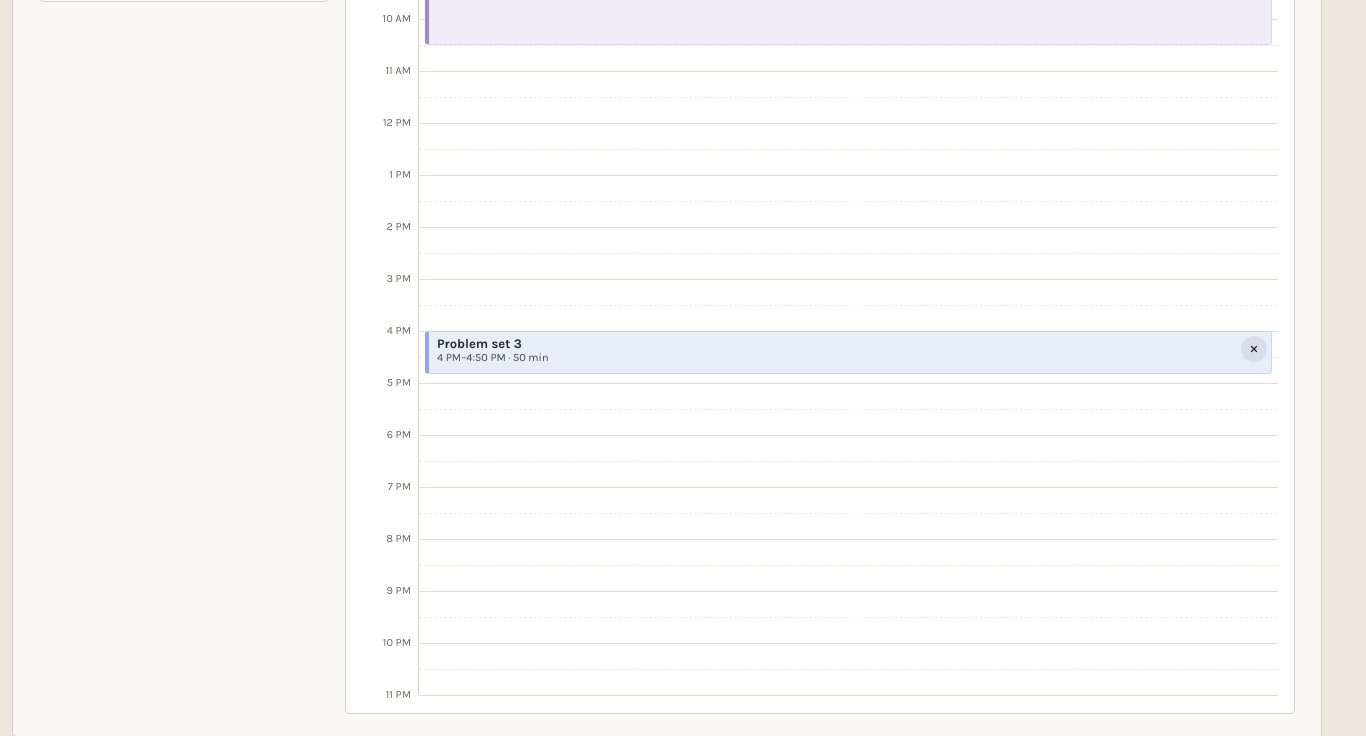
Test: the to-do task pop-up can set, add and clear a tag
The image size is (1366, 736).
Later steps or results of the test are not shown.
(page scrolled)
Press the mouse on the element showing "Problem set 3 4 PM–4:50 PM · 50 min" at (848, 352), box left=425, top=331, right=1272, bottom=374
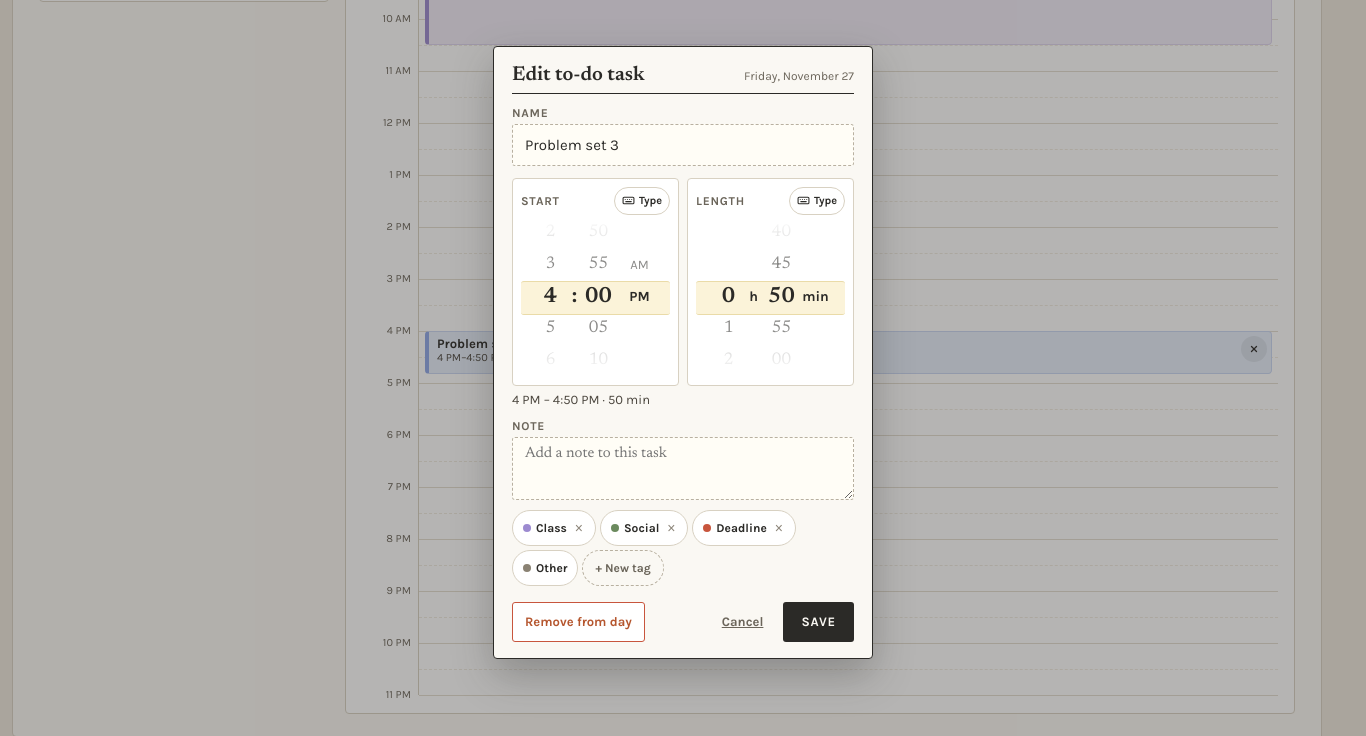
Click the button "Deadline" at (731, 528), box left=693, top=512, right=769, bottom=544
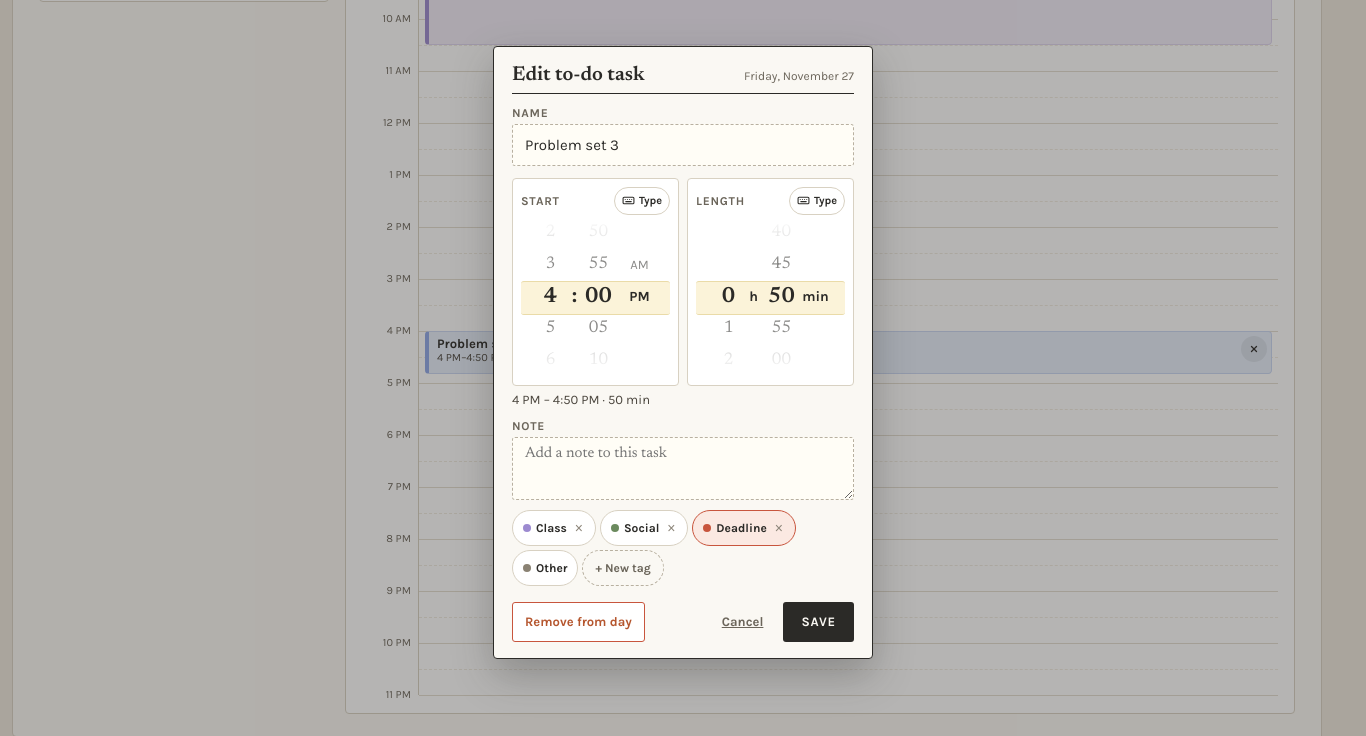
Click the button "SAVE" at (819, 622), box left=783, top=602, right=854, bottom=642
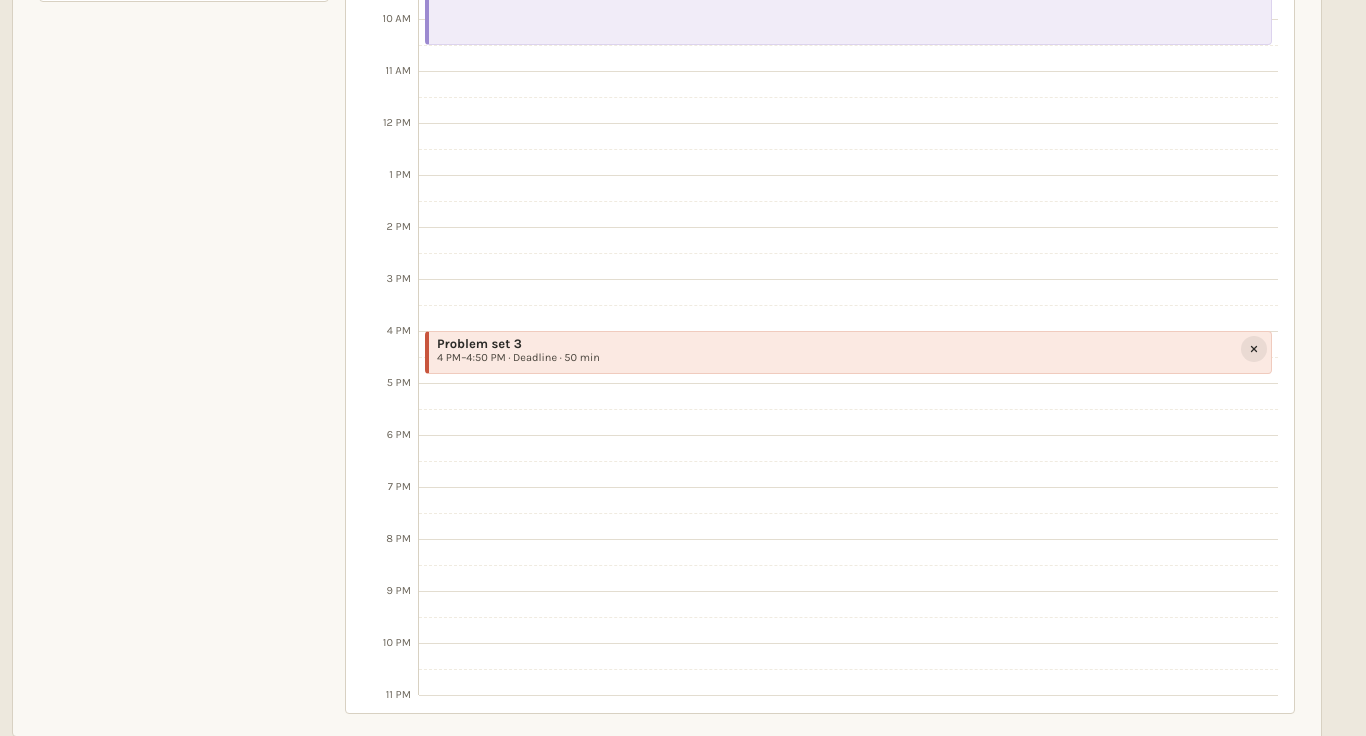
Press the mouse on the element showing "Problem set 3 4 PM–4:50 PM · Deadline · 50 min" at (848, 352), box left=425, top=331, right=1272, bottom=374
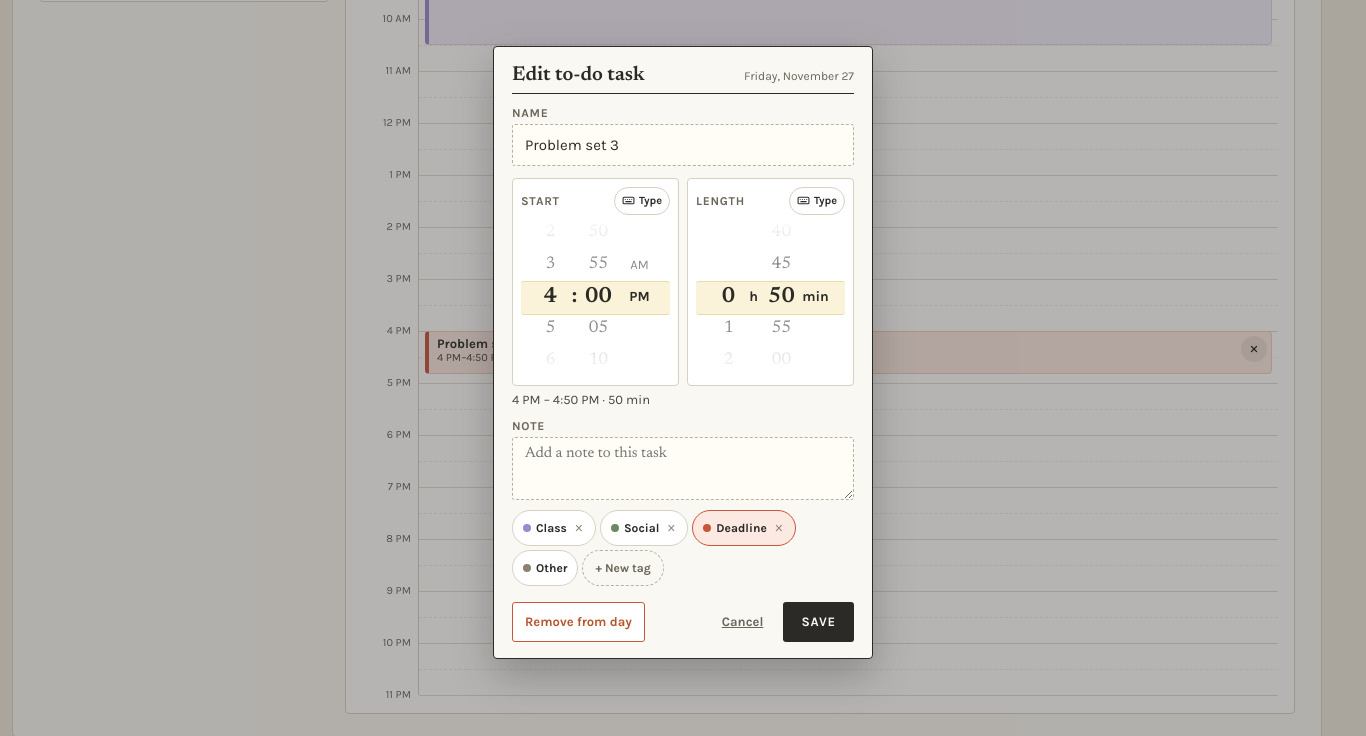
Now the element showing "Problem set 3 4 PM–4:50 PM · Deadline · 50 min" is shown, box left=425, top=331, right=1272, bottom=374
